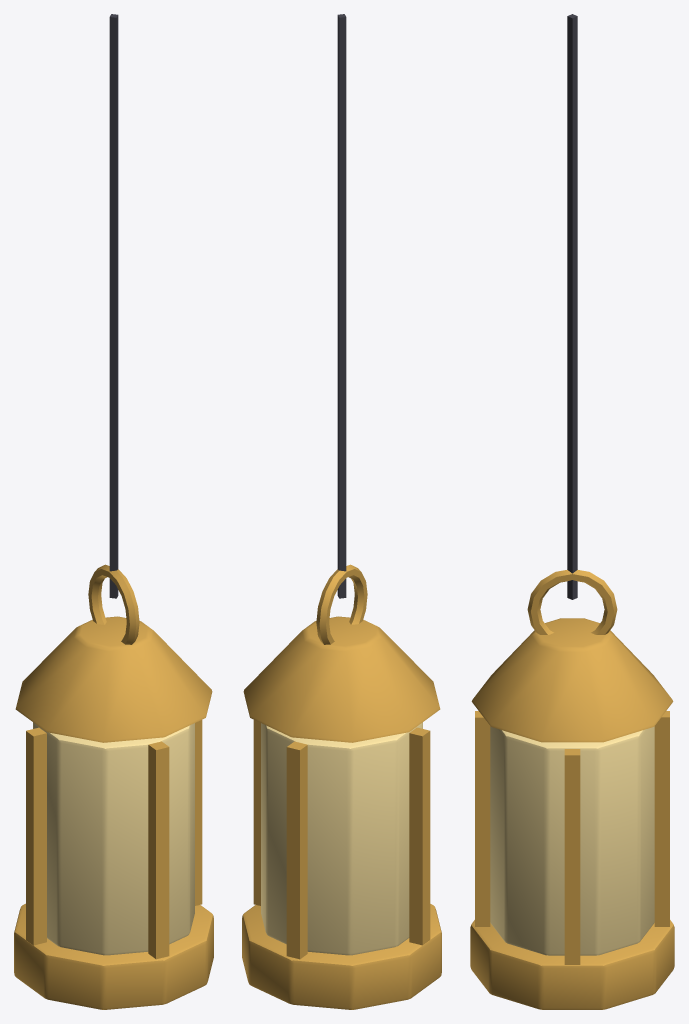
Rendered from HangHarbour.fbx.
3 renders of one model, left to right at view 1: azimuth 30°, elevation 25°; view 2: azimuth 150°, elevation 25°; view 3: azimuth 270°, elevation 25°, orthographic.
Visible parts, largest first — view 1: HangHarbour; view 2: HangHarbour; view 3: HangHarbour.
Part boxes in pixels (x1,y1,x2,y2): HangHarbour: [14, 14, 213, 1009]; HangHarbour: [242, 14, 441, 1009]; HangHarbour: [470, 14, 674, 1009].
Bounding box in the file's own units: 152 × 820 × 159.
